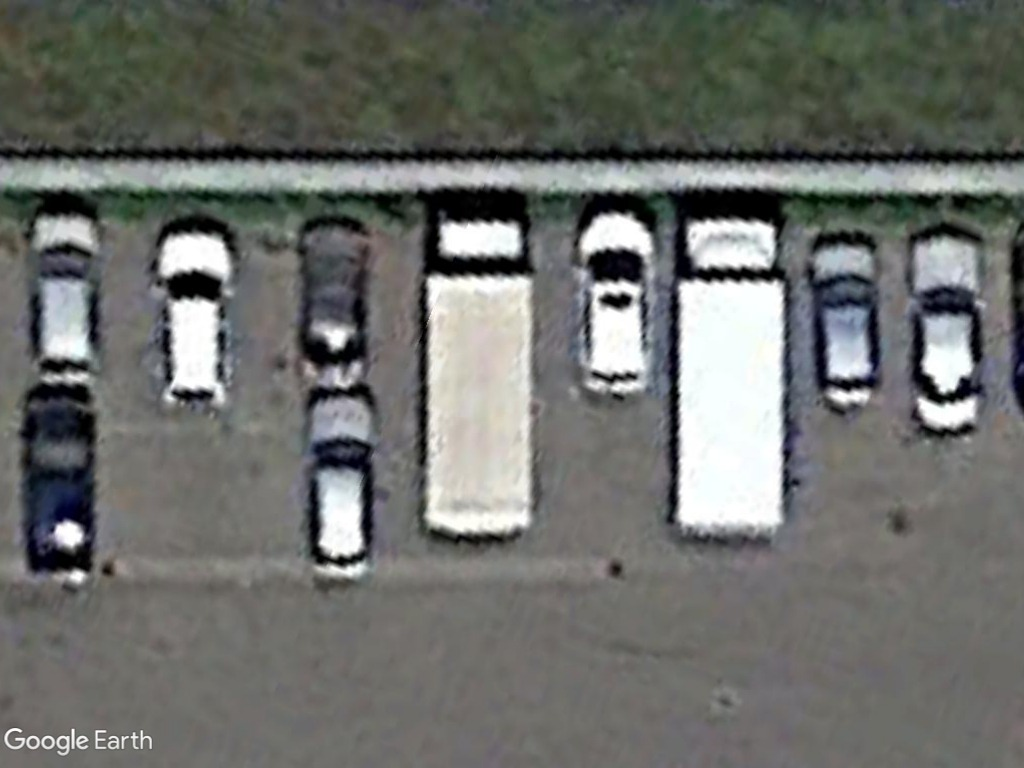car: (906, 219, 988, 439), (152, 224, 239, 415), (573, 208, 657, 403), (302, 391, 381, 581), (26, 209, 106, 389), (805, 232, 882, 418)
truck: (417, 211, 542, 542), (669, 211, 791, 542)
